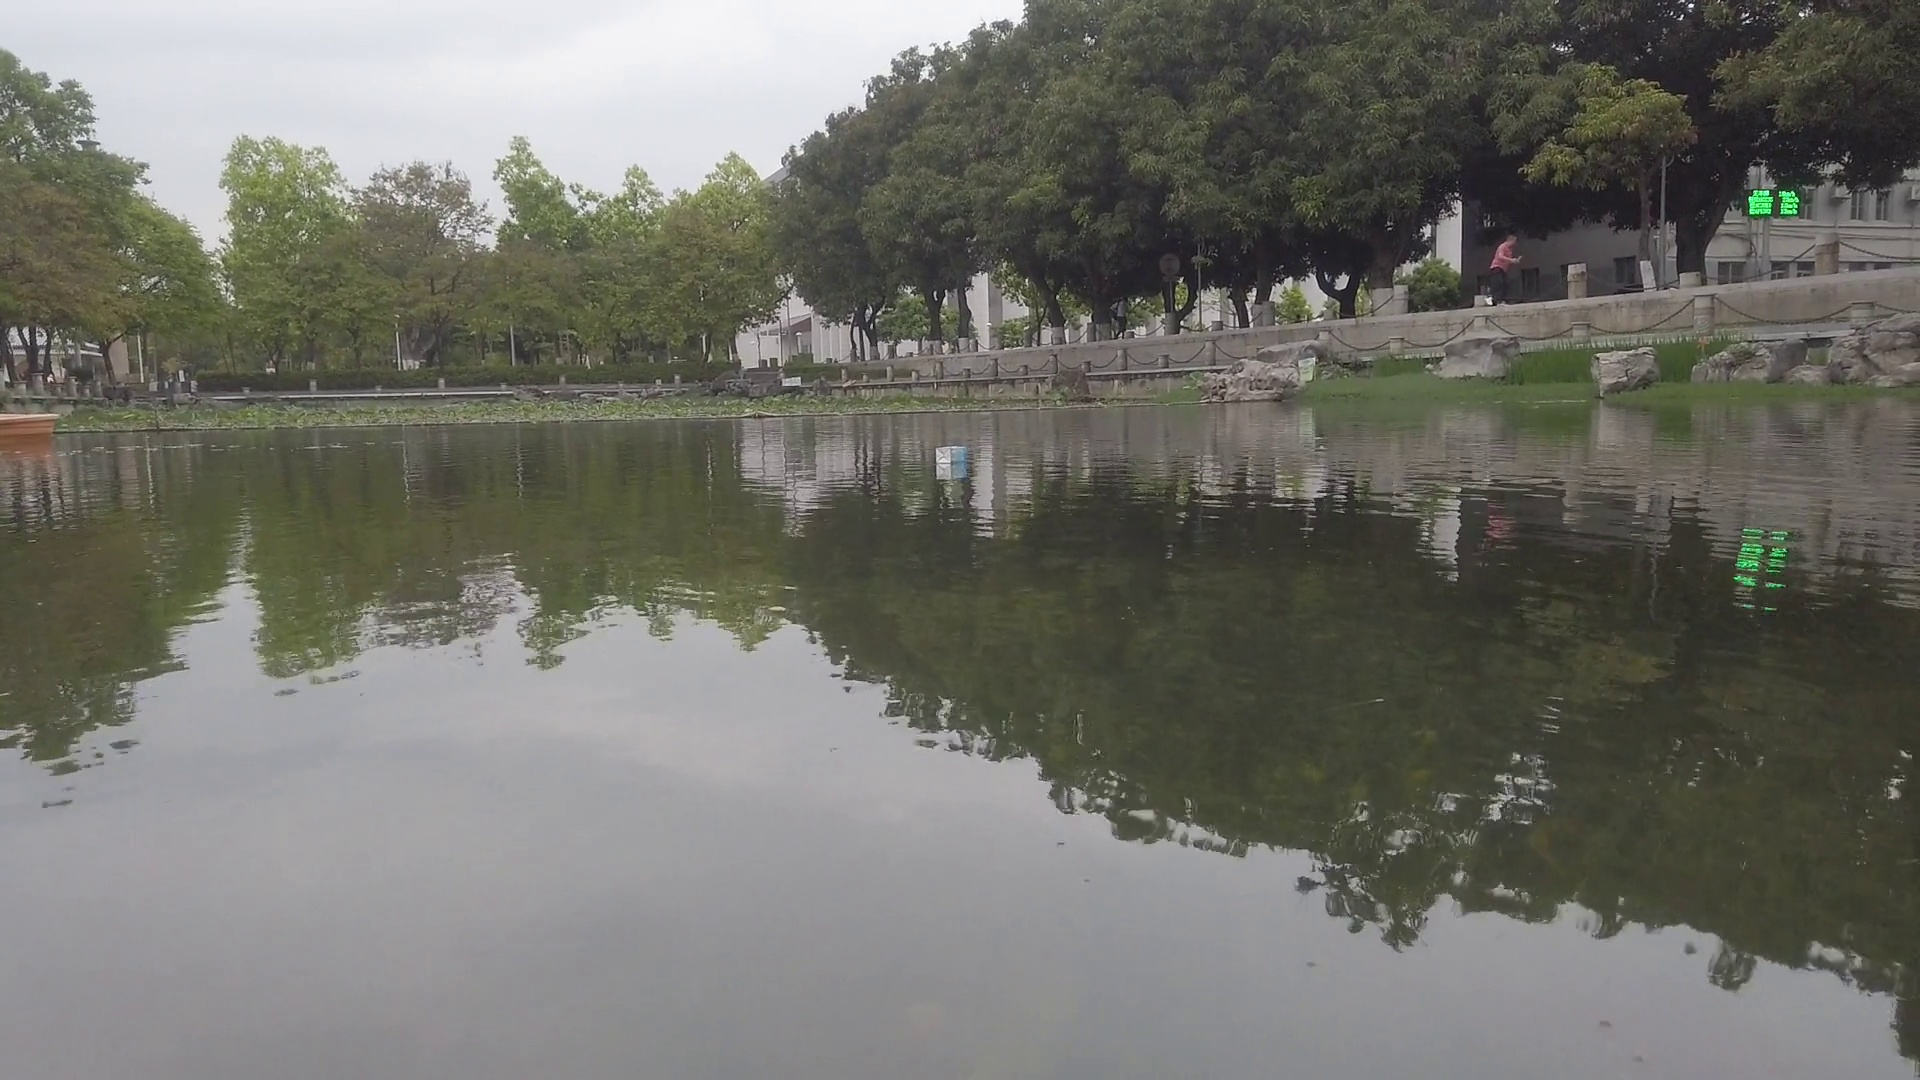carton: (934, 448, 967, 459)
